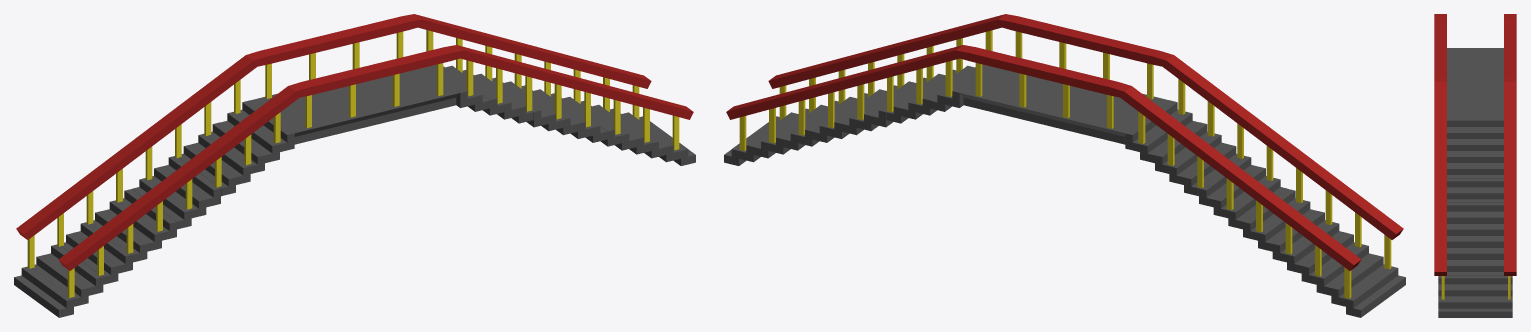
The model's file is bridgePeople.fbx.
3 renders of one model, left to right at view 1: azimuth 30°, elevation 25°; view 2: azimuth 150°, elevation 25°; view 3: azimuth 270°, elevation 25°, orthographic. The views are drawn at different scales.
Parts seen in each view (by area): view 1: Cube.001; view 2: Cube.001; view 3: Cube.001.
Boxes of the visible parts, <box> form: Cube.001: <box>14,14,695,317</box>; Cube.001: <box>724,14,1405,317</box>; Cube.001: <box>1434,14,1516,317</box>.
Bounding box in the file's own units: 4680 × 1207 × 635.
